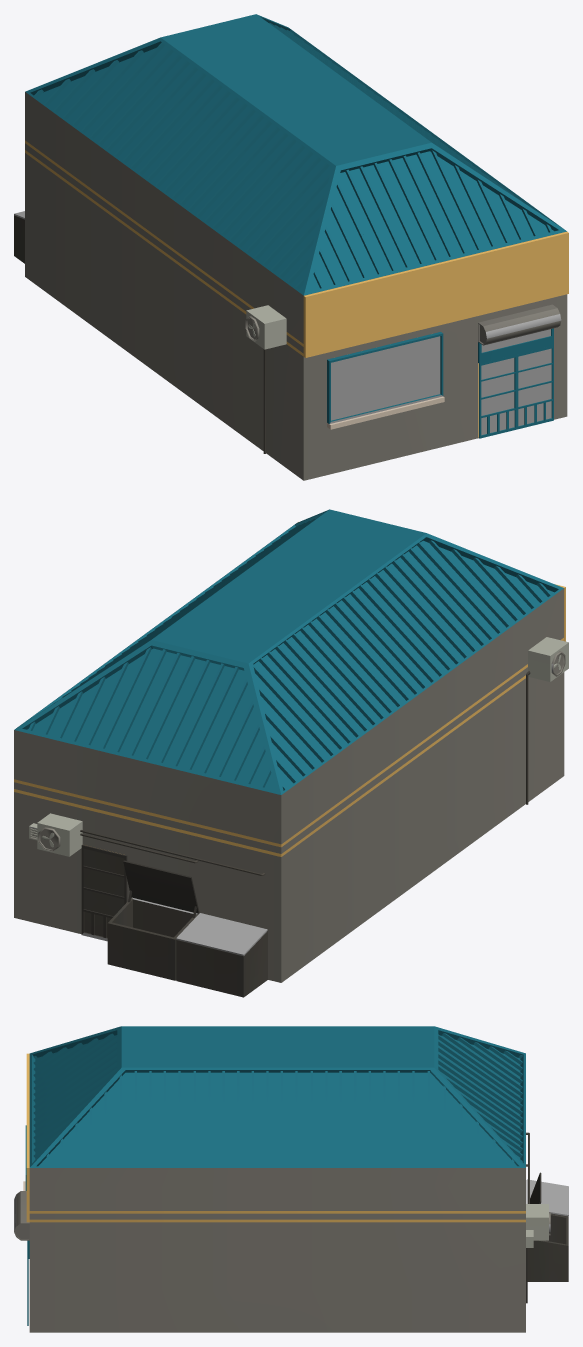
The model's file is market.fbx.
The picture shows the model from 3 angles, top to bottom: view 1: azimuth 30°, elevation 25°; view 2: azimuth 150°, elevation 25°; view 3: azimuth 270°, elevation 25°; orthographic projection. The views are drawn at different scales.
Visible parts, largest first — view 1: polySurface1984, polySurface1951, polySurface1961, polySurface1906, polySurface1907, polySurface2030, polySurface1952, polySurface1986, polySurface2029, polySurface2012, polySurface2003, polySurface2009 (+18 smaller); view 2: polySurface1984, polySurface1995, polySurface1993, polySurface1959, polySurface2031, polySurface1994, polySurface1986, polySurface1992, polySurface2007, polySurface2026, polySurface2015, polySurface2013 (+17 smaller); view 3: polySurface1984, polySurface1995, polySurface1994, polySurface1992, polySurface1951, polySurface2030, polySurface1973, polySurface1975, polySurface1967, polySurface1974, polySurface1976, polySurface1968 (+9 smaller).
Boxes of the visible parts, bbox=[...] form: polySurface1984: bbox=[25, 14, 567, 480]; polySurface1951: bbox=[303, 231, 568, 357]; polySurface1961: bbox=[327, 332, 443, 423]; polySurface1906: bbox=[479, 354, 516, 438]; polySurface1907: bbox=[516, 345, 553, 429]; polySurface2030: bbox=[478, 304, 561, 345]; polySurface1952: bbox=[478, 328, 553, 363]; polySurface1986: bbox=[246, 305, 286, 349]; polySurface2029: bbox=[327, 396, 444, 429]; polySurface2012: bbox=[156, 97, 239, 187]; polySurface2003: bbox=[81, 42, 164, 132]; polySurface2009: bbox=[131, 78, 214, 168]; polySurface1984: bbox=[14, 509, 564, 982]; polySurface1995: bbox=[107, 897, 198, 980]; polySurface1993: bbox=[176, 930, 267, 997]; polySurface1959: bbox=[81, 844, 127, 941]; polySurface2031: bbox=[123, 860, 199, 913]; polySurface1994: bbox=[176, 913, 267, 955]; polySurface1986: bbox=[528, 637, 568, 681]; polySurface1992: bbox=[37, 813, 82, 856]; polySurface2007: bbox=[283, 639, 368, 731]; polySurface2026: bbox=[383, 566, 467, 658]; polySurface2015: bbox=[392, 560, 476, 651]; polySurface2013: bbox=[342, 597, 426, 688]; polySurface1984: bbox=[29, 1026, 525, 1332]; polySurface1995: bbox=[527, 1214, 568, 1281]; polySurface1994: bbox=[526, 1179, 568, 1216]; polySurface1992: bbox=[526, 1204, 548, 1240]; polySurface1951: bbox=[26, 1053, 29, 1222]; polySurface2030: bbox=[14, 1191, 29, 1240]; polySurface1973: bbox=[438, 1034, 522, 1096]; polySurface1975: bbox=[438, 1059, 522, 1120]; polySurface1967: bbox=[438, 1040, 522, 1102]; polySurface1974: bbox=[438, 1053, 522, 1114]; polySurface1976: bbox=[438, 1065, 522, 1126]; polySurface1968: bbox=[438, 1047, 522, 1108].
Bounding box in the file's own units: 65.08 × 55.6 × 122.
Materials: 2 (1 with a texture image).
